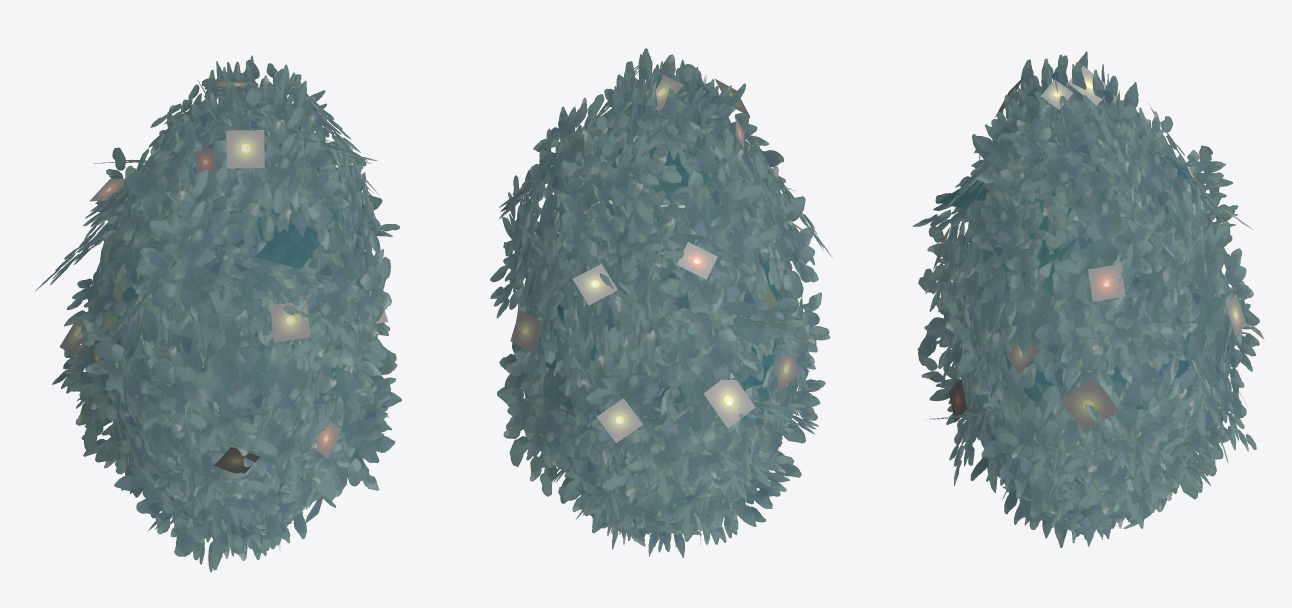
File: pref_sm_beach_winter_techqiutree01_lv3.fbx
3 views of the same model, side by side, from view 1: azimuth 30°, elevation 25°; view 2: azimuth 150°, elevation 25°; view 3: azimuth 270°, elevation 25° (orthographic). The views are drawn at different scales.
Visible parts, largest first — view 1: sm_beach_winter_techqiutree01_lv3, sm_beach_winter_techqiutree01b_lv3; view 2: sm_beach_winter_techqiutree01_lv3, sm_beach_winter_techqiutree01b_lv3; view 3: sm_beach_winter_techqiutree01_lv3, sm_beach_winter_techqiutree01b_lv3.
Boxes of the visible parts, x1,y1,x2,y2 form: sm_beach_winter_techqiutree01_lv3: [34, 55, 401, 572]; sm_beach_winter_techqiutree01b_lv3: [59, 72, 388, 473]; sm_beach_winter_techqiutree01_lv3: [490, 48, 832, 557]; sm_beach_winter_techqiutree01b_lv3: [500, 56, 798, 442]; sm_beach_winter_techqiutree01_lv3: [912, 51, 1259, 547]; sm_beach_winter_techqiutree01b_lv3: [933, 66, 1264, 432].
Bounding box in the file's own units: 3.98 × 5.53 × 3.61.
